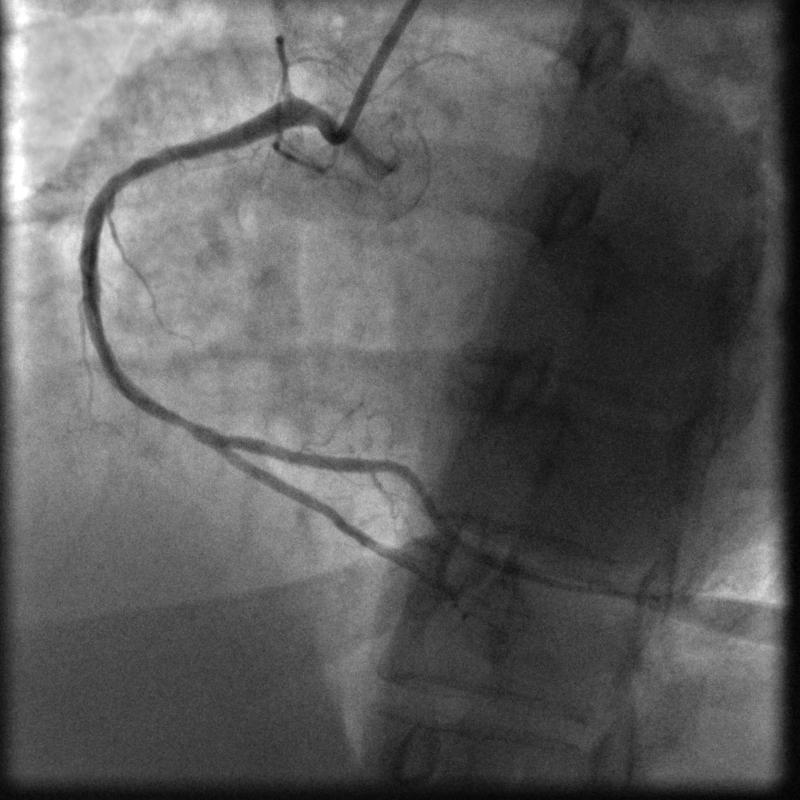Stenosis: (171, 403, 217, 458)
